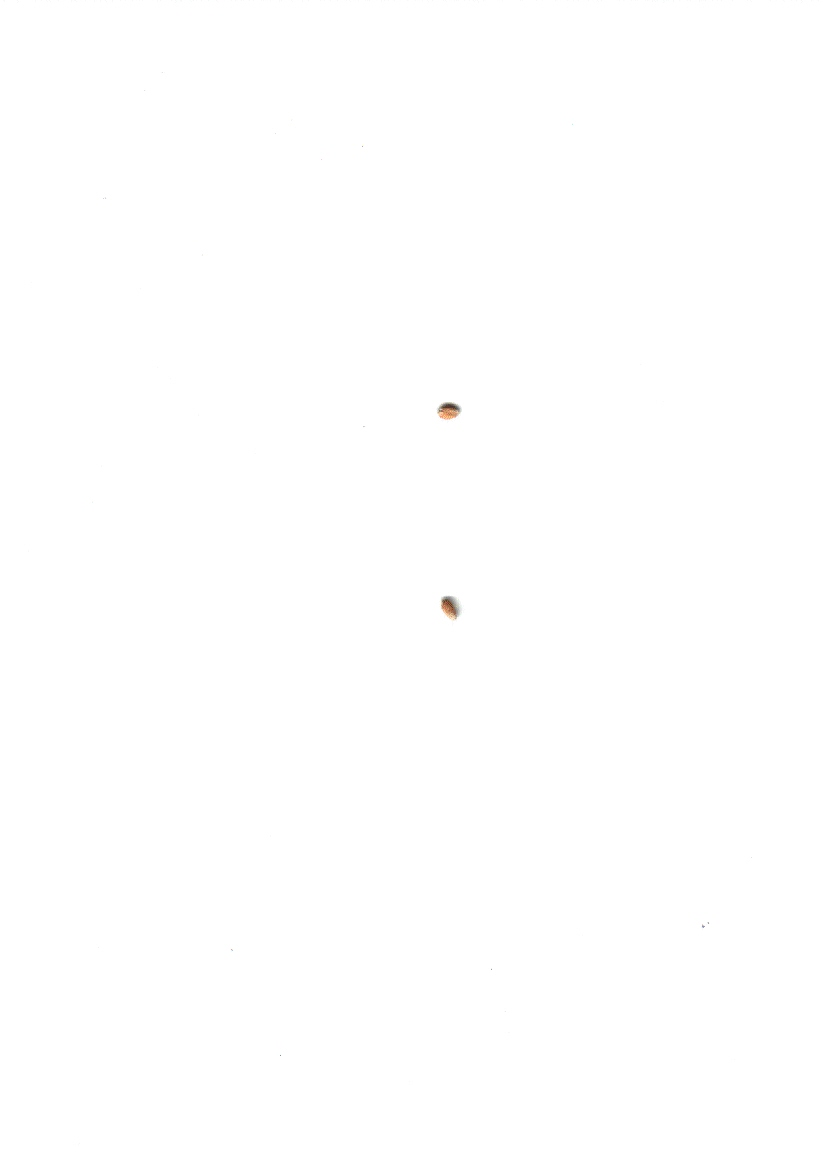grains: (427, 388, 475, 440), (427, 585, 468, 634)
